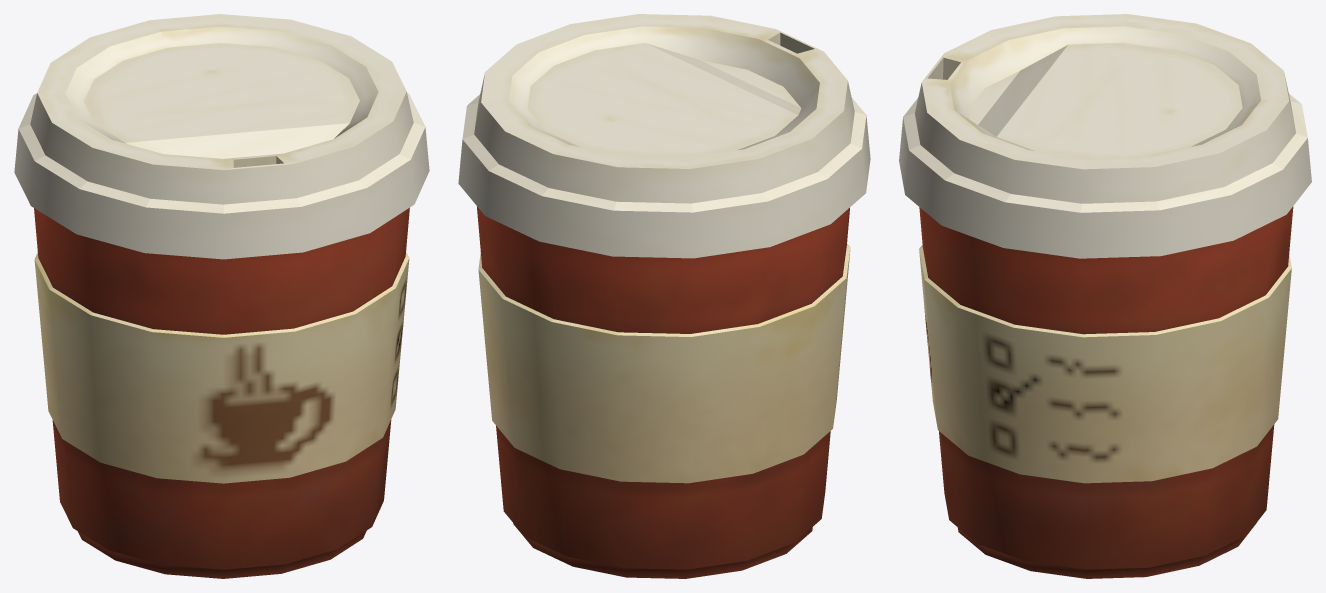
Rendered from CoffeeCup.fbx.
3 renders of one model, left to right at view 1: azimuth 30°, elevation 25°; view 2: azimuth 150°, elevation 25°; view 3: azimuth 270°, elevation 25°, orthographic.
Visible parts, largest first — view 1: SM_CoffeeCup; view 2: SM_CoffeeCup; view 3: SM_CoffeeCup.
Boxes of the visible parts, x1,y1,x2,y2 form: SM_CoffeeCup: (14, 14, 429, 578); SM_CoffeeCup: (458, 14, 870, 578); SM_CoffeeCup: (899, 14, 1311, 578).
Bounding box in the file's own units: 6.27 × 7.09 × 6.27.
